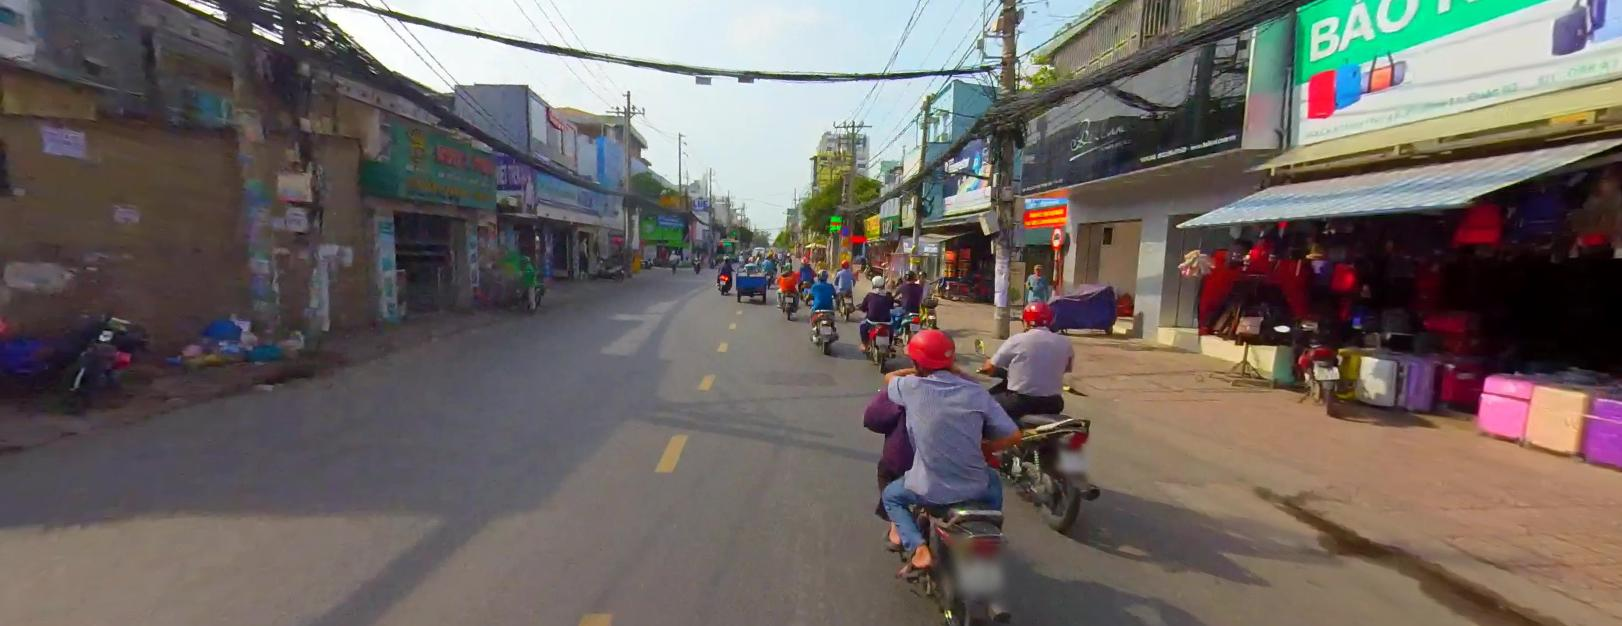Cam con lai: (1050, 223, 1063, 248)
Cam dung va do: (839, 223, 849, 235)
